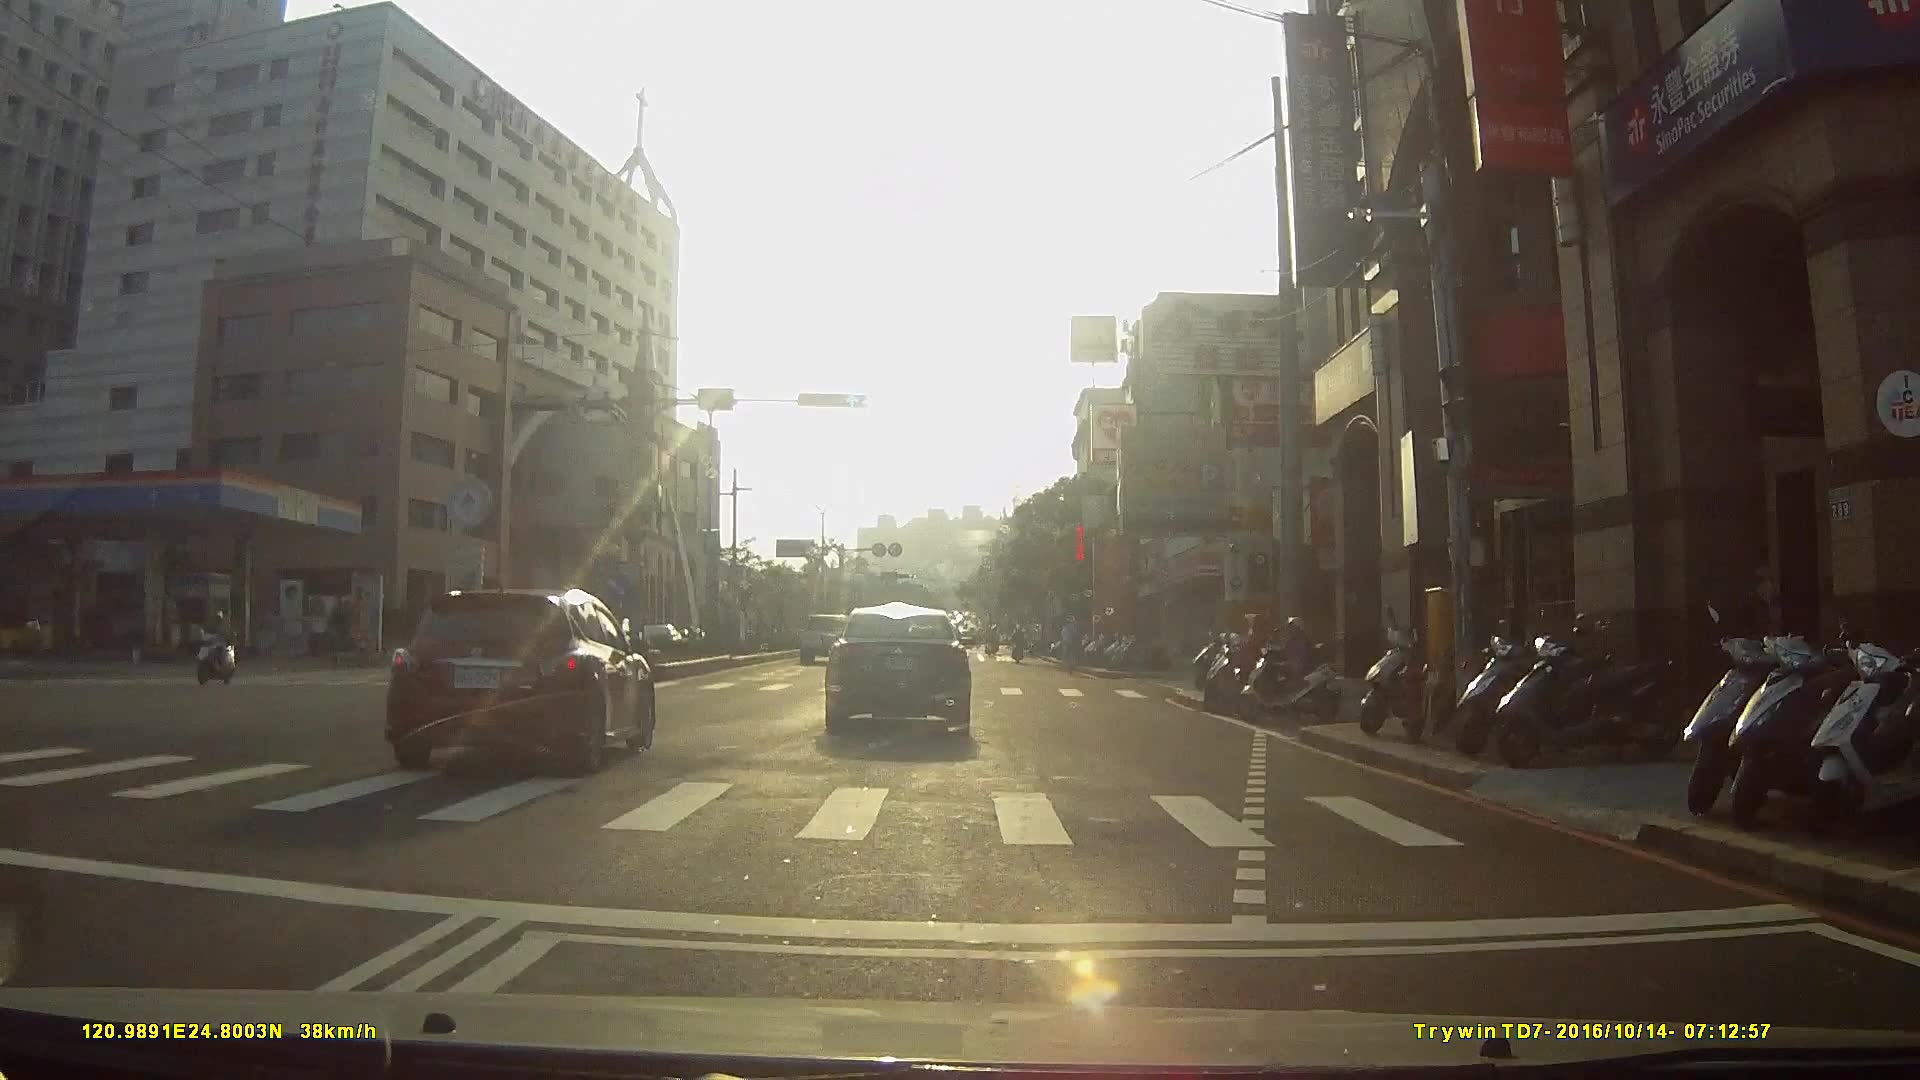rider: (1229, 615, 1346, 726), (1203, 613, 1304, 721), (197, 609, 239, 684)
vehicle: (383, 584, 673, 782), (824, 604, 986, 745), (803, 611, 862, 666)
